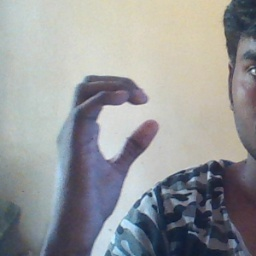C: (68, 70, 165, 181)
